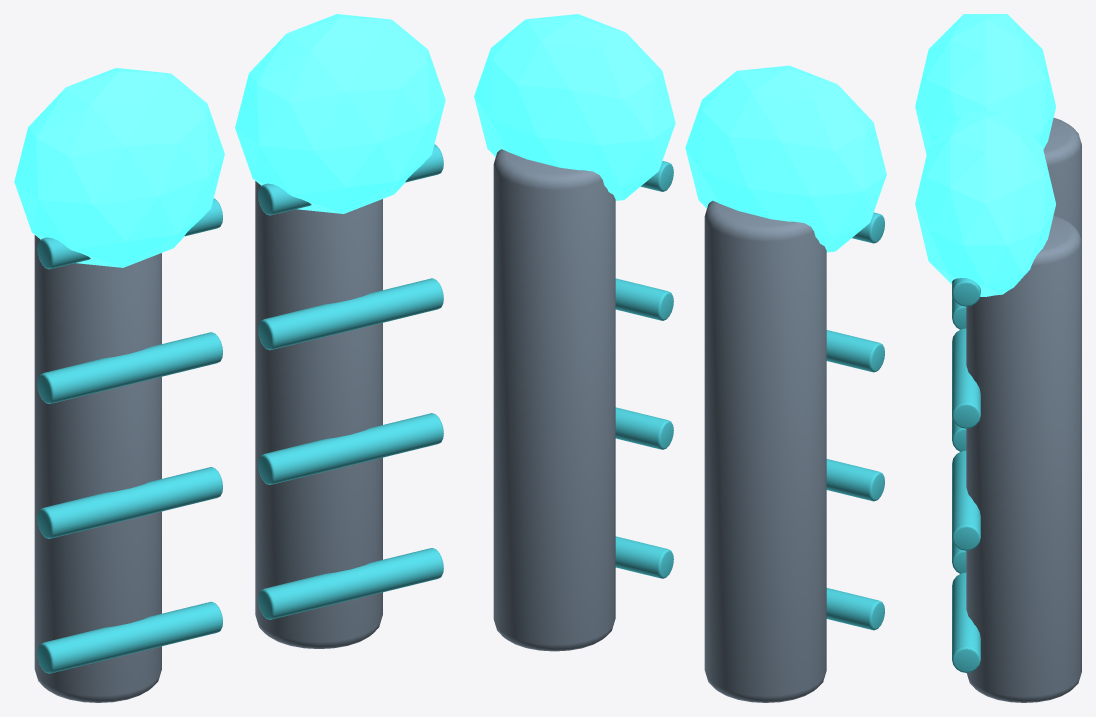
The model's file is greaves_v5.glb.
3 renders of one model, left to right at view 1: azimuth 30°, elevation 25°; view 2: azimuth 150°, elevation 25°; view 3: azimuth 270°, elevation 25°, orthographic. The views are drawn at different scales.
Visible parts, largest first — view 1: BONE_SHIN_PRIMARY, BONE_SHIN_PRIMARY.001, BONE_KNEE_EMISSIVE.001, BONE_KNEE_EMISSIVE, BONE_CROSS_ACCENT.006, BONE_CROSS_ACCENT, BONE_CROSS_ACCENT.004, BONE_CROSS_ACCENT.005, BONE_CROSS_ACCENT.001, BONE_CROSS_ACCENT.002, BONE_CROSS_ACCENT.003, BONE_CROSS_ACCENT.007; view 2: BONE_SHIN_PRIMARY, BONE_SHIN_PRIMARY.001, BONE_KNEE_EMISSIVE.001, BONE_KNEE_EMISSIVE, BONE_CROSS_ACCENT.001, BONE_CROSS_ACCENT.002, BONE_CROSS_ACCENT, BONE_CROSS_ACCENT.004, BONE_CROSS_ACCENT.005, BONE_CROSS_ACCENT.006; view 3: BONE_SHIN_PRIMARY.001, BONE_KNEE_EMISSIVE.001, BONE_KNEE_EMISSIVE, BONE_SHIN_PRIMARY, BONE_CROSS_ACCENT.004, BONE_CROSS_ACCENT.005, BONE_CROSS_ACCENT.006, BONE_CROSS_ACCENT.007, BONE_CROSS_ACCENT, BONE_CROSS_ACCENT.001, BONE_CROSS_ACCENT.002.
Part boxes in pixels (x1=…): BONE_SHIN_PRIMARY: x1=34, y1=235, x2=161, y2=702; BONE_SHIN_PRIMARY.001: x1=255, y1=181, x2=382, y2=648; BONE_KNEE_EMISSIVE.001: x1=235, y1=14, x2=445, y2=213; BONE_KNEE_EMISSIVE: x1=14, y1=68, x2=224, y2=267; BONE_CROSS_ACCENT.006: x1=258, y1=278, x2=443, y2=350; BONE_CROSS_ACCENT: x1=37, y1=601, x2=222, y2=673; BONE_CROSS_ACCENT.004: x1=258, y1=548, x2=443, y2=619; BONE_CROSS_ACCENT.005: x1=258, y1=413, x2=443, y2=484; BONE_CROSS_ACCENT.001: x1=37, y1=467, x2=222, y2=538; BONE_CROSS_ACCENT.002: x1=37, y1=332, x2=222, y2=403; BONE_CROSS_ACCENT.003: x1=37, y1=198, x2=222, y2=269; BONE_CROSS_ACCENT.007: x1=258, y1=144, x2=443, y2=215; BONE_SHIN_PRIMARY: x1=704, y1=200, x2=826, y2=702; BONE_SHIN_PRIMARY.001: x1=493, y1=149, x2=615, y2=651; BONE_KNEE_EMISSIVE.001: x1=474, y1=14, x2=675, y2=200; BONE_KNEE_EMISSIVE: x1=685, y1=65, x2=886, y2=252; BONE_CROSS_ACCENT.001: x1=826, y1=459, x2=884, y2=501; BONE_CROSS_ACCENT.002: x1=826, y1=330, x2=884, y2=372; BONE_CROSS_ACCENT: x1=826, y1=588, x2=884, y2=630; BONE_CROSS_ACCENT.004: x1=615, y1=536, x2=673, y2=578; BONE_CROSS_ACCENT.005: x1=615, y1=407, x2=673, y2=449; BONE_CROSS_ACCENT.006: x1=615, y1=278, x2=673, y2=320; BONE_SHIN_PRIMARY.001: x1=966, y1=215, x2=1081, y2=702; BONE_KNEE_EMISSIVE.001: x1=915, y1=111, x2=1055, y2=296; BONE_KNEE_EMISSIVE: x1=915, y1=14, x2=1056, y2=154; BONE_SHIN_PRIMARY: x1=1043, y1=118, x2=1081, y2=241; BONE_CROSS_ACCENT.004: x1=952, y1=572, x2=980, y2=672; BONE_CROSS_ACCENT.005: x1=952, y1=450, x2=980, y2=550; BONE_CROSS_ACCENT.006: x1=952, y1=328, x2=980, y2=428; BONE_CROSS_ACCENT.007: x1=952, y1=278, x2=980, y2=306; BONE_CROSS_ACCENT: x1=952, y1=538, x2=966, y2=573; BONE_CROSS_ACCENT.001: x1=952, y1=416, x2=966, y2=451; BONE_CROSS_ACCENT.002: x1=952, y1=294, x2=966, y2=329.
Size of the model in its own units: 1.33 by 1.94 by 0.52.
